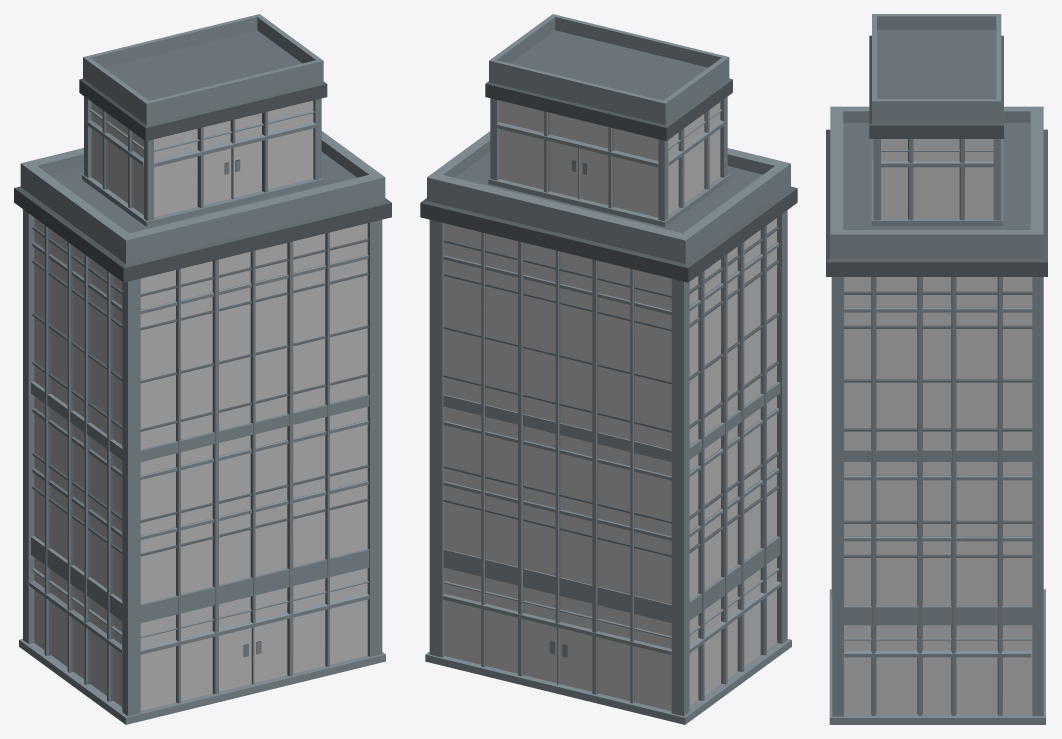
The model's file is SM_Gen_Bld_Background_11.fbx.
The picture shows the model from 3 angles, left to right: view 1: azimuth 30°, elevation 25°; view 2: azimuth 150°, elevation 25°; view 3: azimuth 270°, elevation 25°; orthographic projection.
Parts seen in each view (by area): view 1: SM_Gen_Bld_Background_11; view 2: SM_Gen_Bld_Background_11; view 3: SM_Gen_Bld_Background_11.
Boxes of the visible parts, bbox=[...] form: SM_Gen_Bld_Background_11: bbox=[14, 14, 391, 724]; SM_Gen_Bld_Background_11: bbox=[420, 14, 797, 724]; SM_Gen_Bld_Background_11: bbox=[826, 14, 1047, 724].
Bounding box in the file's own units: 946 × 2005 × 669.
